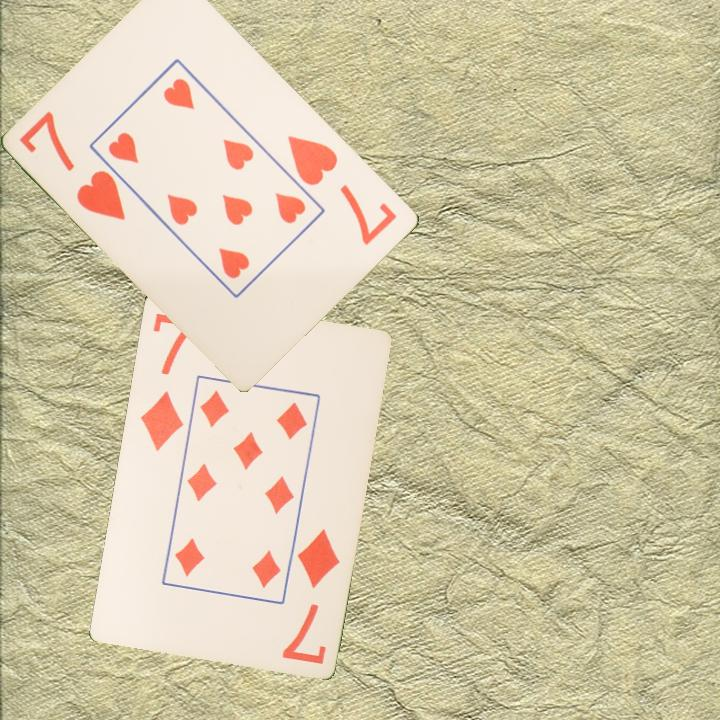7d: (278, 524, 343, 667), (136, 308, 200, 453)
7h: (284, 132, 401, 249), (16, 108, 129, 224)
